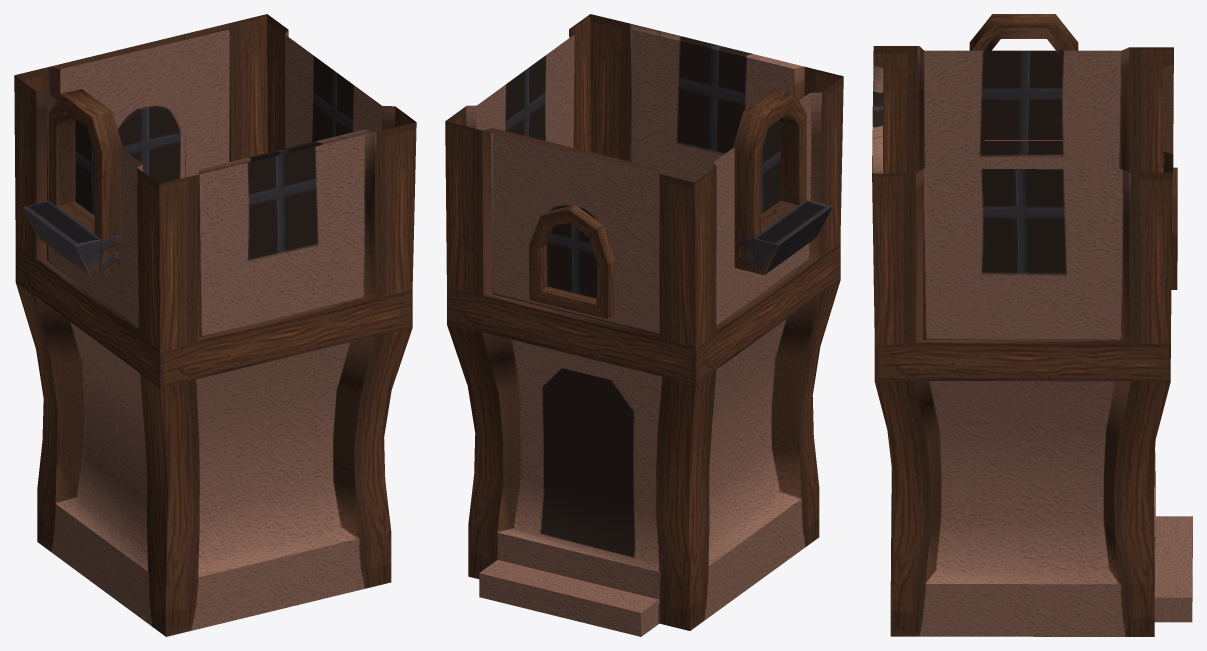
File: House7.obj
3 views of the same model, side by side, from view 1: azimuth 30°, elevation 25°; view 2: azimuth 150°, elevation 25°; view 3: azimuth 270°, elevation 25° (orthographic). The views are drawn at different scales.
Visible parts, largest first — view 1: HouseMesh7; view 2: HouseMesh7; view 3: HouseMesh7.
Boxes of the visible parts, x1,y1,x2,y2 form: HouseMesh7: (14, 14, 416, 636); HouseMesh7: (445, 14, 843, 636); HouseMesh7: (872, 14, 1192, 636).
Bounding box in the file's own units: 22.83 × 36.48 × 21.28.
